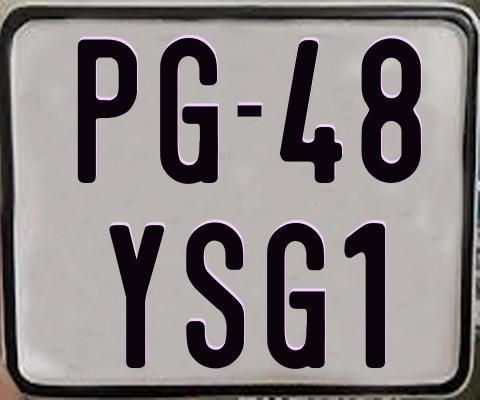1: (341, 221, 383, 370)
4: (279, 40, 342, 186)
8: (361, 35, 422, 183)
G: (266, 220, 328, 372), (157, 37, 218, 185)
P: (75, 37, 140, 181)
S: (184, 220, 242, 368)
Y: (107, 224, 168, 369)
